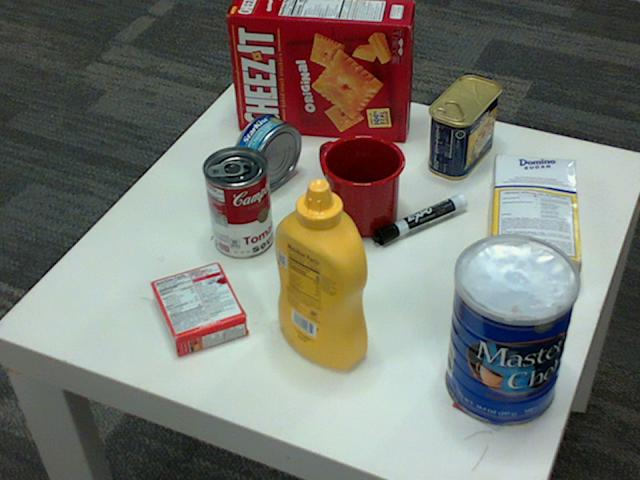cracker_box: (229, 0, 414, 141)
gelatin_box: (147, 261, 244, 357)
large_marker: (373, 197, 468, 244)
master_chef_can: (447, 236, 583, 428)
mug: (318, 133, 404, 236)
mustard_bottle: (274, 180, 366, 370)
potted_meat_can: (427, 77, 499, 180)
sugar_box: (486, 153, 580, 292)
tomato_soup_can: (203, 147, 273, 259)
tuna_fish_can: (231, 113, 300, 191)
